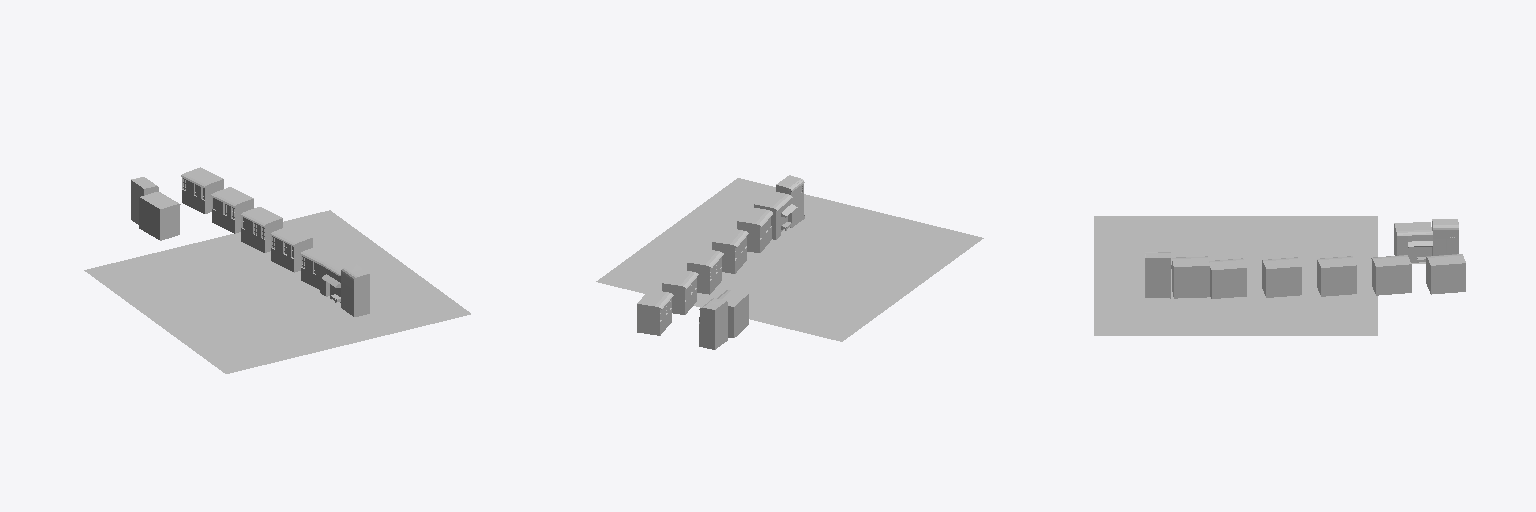
Rendered from first building test .obj.
3 renders of one model, left to right at view 1: azimuth 30°, elevation 25°; view 2: azimuth 150°, elevation 25°; view 3: azimuth 270°, elevation 25°, orthographic.
Visible parts, largest first — view 1: Plane.001, Cube.002_Cube.003, Cube.008_Cube.010, Cube_Cube.001, Cube.001_Cube.002, Cube.007_Cube.009; view 2: Plane.001, Cube.002_Cube.003, Cube.007_Cube.009, Cube.001_Cube.002, Cube.008_Cube.010, Cube_Cube.001; view 3: Plane.001, Cube.002_Cube.003, Cube.001_Cube.002, Cube.008_Cube.010, Cube_Cube.001, Cube.007_Cube.009.
Boxes of the visible parts, <box> form: Plane.001: <box>84,210,470,373</box>; Cube.002_Cube.003: <box>181,167,341,289</box>; Cube.008_Cube.010: <box>139,192,180,240</box>; Cube_Cube.001: <box>341,264,369,316</box>; Cube.001_Cube.002: <box>319,256,353,305</box>; Cube.007_Cube.009: <box>131,177,158,224</box>; Plane.001: <box>596,178,983,341</box>; Cube.002_Cube.003: <box>637,207,772,335</box>; Cube.007_Cube.009: <box>699,298,727,349</box>; Cube.001_Cube.002: <box>754,191,797,239</box>; Cube.008_Cube.010: <box>717,290,748,337</box>; Cube_Cube.001: <box>776,175,804,227</box>; Plane.001: <box>1094,216,1377,335</box>; Cube.002_Cube.003: <box>1209,254,1465,298</box>; Cube.001_Cube.002: <box>1171,256,1209,298</box>; Cube.008_Cube.010: <box>1394,222,1432,263</box>; Cube_Cube.001: <box>1145,252,1170,298</box>; Cube.007_Cube.009: <box>1432,219,1458,255</box>.
Bounding box in the file's own units: 85.59 × 13.48 × 112.